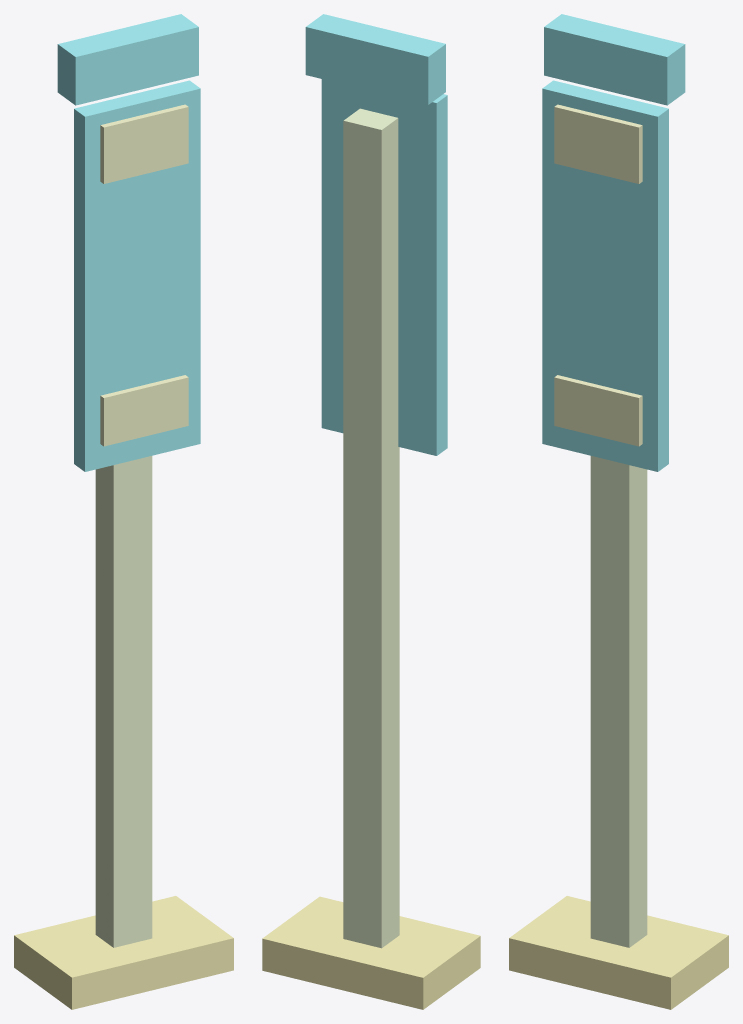
The model's file is furniture_bus_stop_totem.glb.
The picture shows the model from 3 angles, left to right: view 1: azimuth 30°, elevation 25°; view 2: azimuth 150°, elevation 25°; view 3: azimuth 330°, elevation 25°; orthographic projection.
Parts seen in each view (by area): view 1: panel, post, base, cap, route_strip, stop_band; view 2: post, panel, base, cap; view 3: panel, post, base, cap, route_strip, stop_band.
Boxes of the visible parts, bbox=[...] form: panel: bbox=[74, 80, 200, 471]; post: bbox=[95, 456, 152, 947]; base: bbox=[14, 896, 233, 1009]; cap: bbox=[57, 14, 198, 105]; route_strip: bbox=[100, 104, 188, 183]; stop_band: bbox=[100, 375, 188, 446]; post: bbox=[343, 108, 399, 948]; panel: bbox=[321, 79, 447, 455]; base: bbox=[262, 896, 480, 1009]; cap: bbox=[305, 14, 445, 104]; panel: bbox=[542, 80, 668, 471]; post: bbox=[590, 456, 647, 947]; base: bbox=[509, 896, 728, 1009]; cap: bbox=[544, 14, 685, 105]; route_strip: bbox=[554, 104, 642, 183]; stop_band: bbox=[554, 375, 642, 446].
Size of the model in its own units: 0.42 by 2.32 by 0.26.
